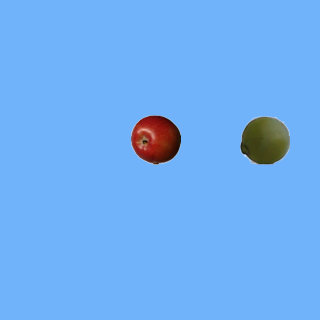Apple Braeburn: (130, 114, 180, 164)
Grape White 4: (239, 114, 289, 164)
